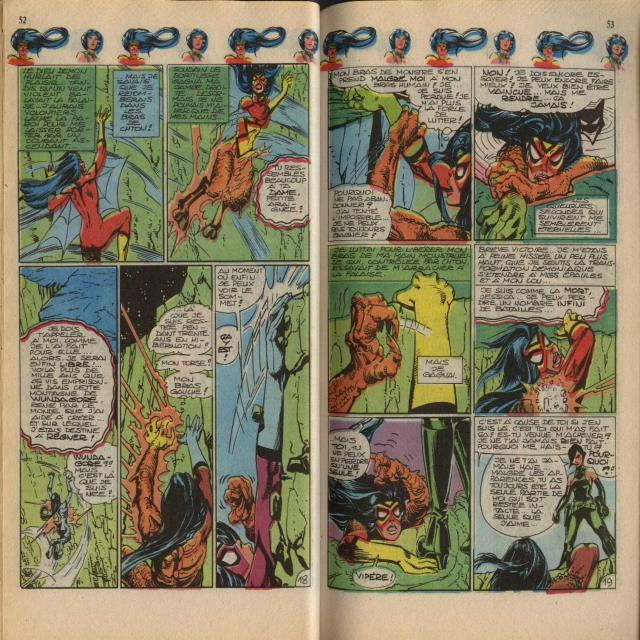comic_panel: (18, 266, 119, 592), (215, 263, 311, 591), (119, 265, 215, 589), (17, 64, 166, 264), (166, 62, 311, 262), (327, 66, 472, 243), (328, 415, 472, 593), (473, 414, 617, 592), (326, 243, 473, 415), (473, 243, 618, 415), (474, 66, 616, 241)
